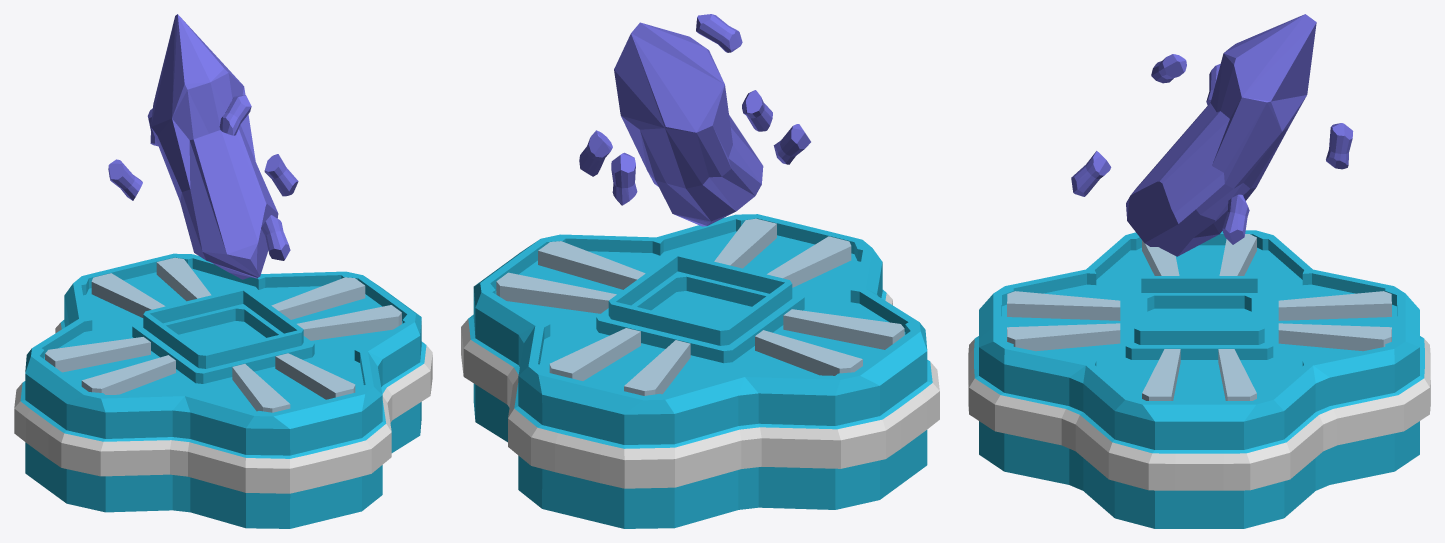
File: crystall_stand (2).fbx
The picture shows the model from 3 angles, left to right: view 1: azimuth 30°, elevation 25°; view 2: azimuth 150°, elevation 25°; view 3: azimuth 270°, elevation 25°; orthographic projection. The views are drawn at different scales.
Visible parts, largest first — view 1: platform, big crystall, small srystall; view 2: platform, big crystall, small srystall; view 3: platform, big crystall, small srystall.
Part boxes in pixels (box(x1,y1,x2,y2)): platform: box(14, 253, 432, 528); big crystall: box(151, 14, 278, 279); small srystall: box(108, 95, 298, 260); platform: box(461, 214, 939, 528); big crystall: box(614, 22, 763, 226); small srystall: box(579, 14, 810, 205); platform: box(968, 230, 1430, 528); big crystall: box(1126, 14, 1316, 256); small srystall: box(1071, 54, 1353, 244).
Bounding box in the file's own units: 709 × 716 × 709.
